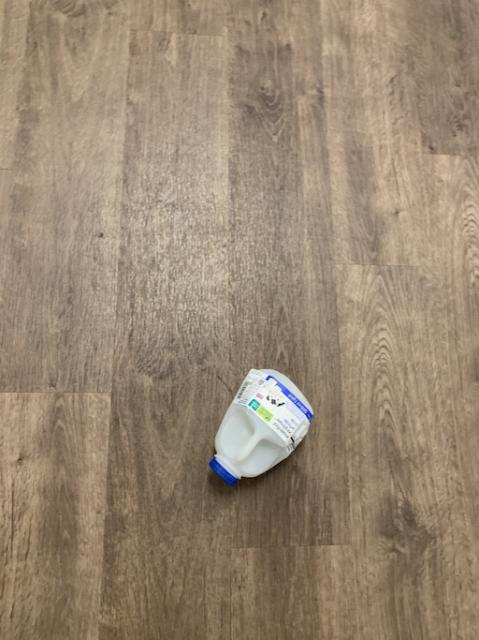plastic: (209, 368, 311, 484)
